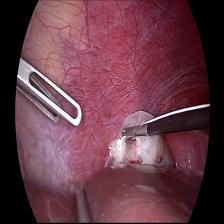Grasper: (18, 58, 84, 136), (120, 124, 154, 140)
Irrigator: (72, 186, 90, 223)
Specimen Bag: (105, 108, 176, 183)
